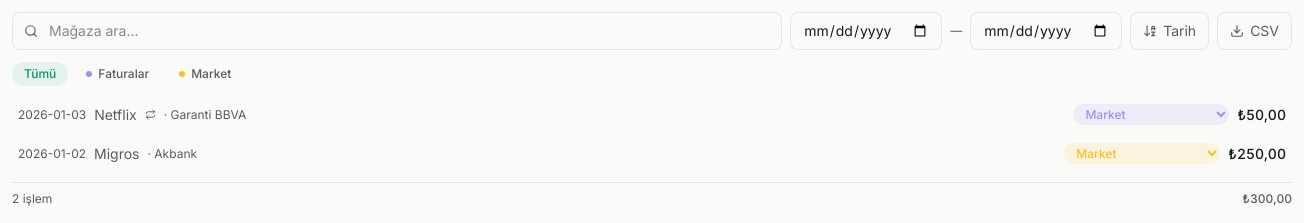
AllTransactionsView › filters merged transactions by merchant search
The width and height of the screenshot is (1304, 223).
Check: the text "Migros" is shown, box [94,144,140,162]
Type "netflix" into the field with placeholder "Mağaza ara..." at (397, 31), box [12,12,782,50]
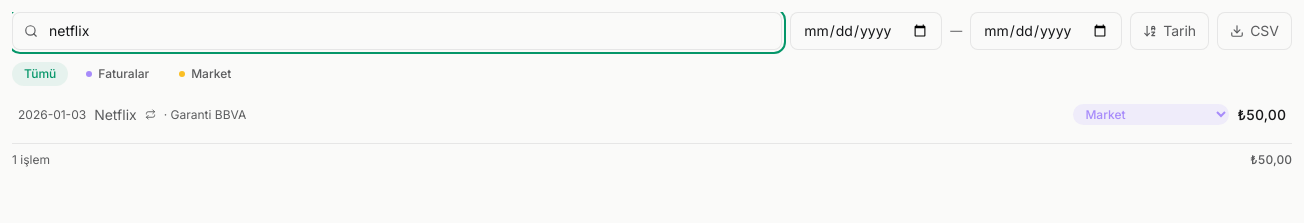
Check: the text "Netflix" is shown, box [94,106,137,122]
Check: the text "Migros" is gone
